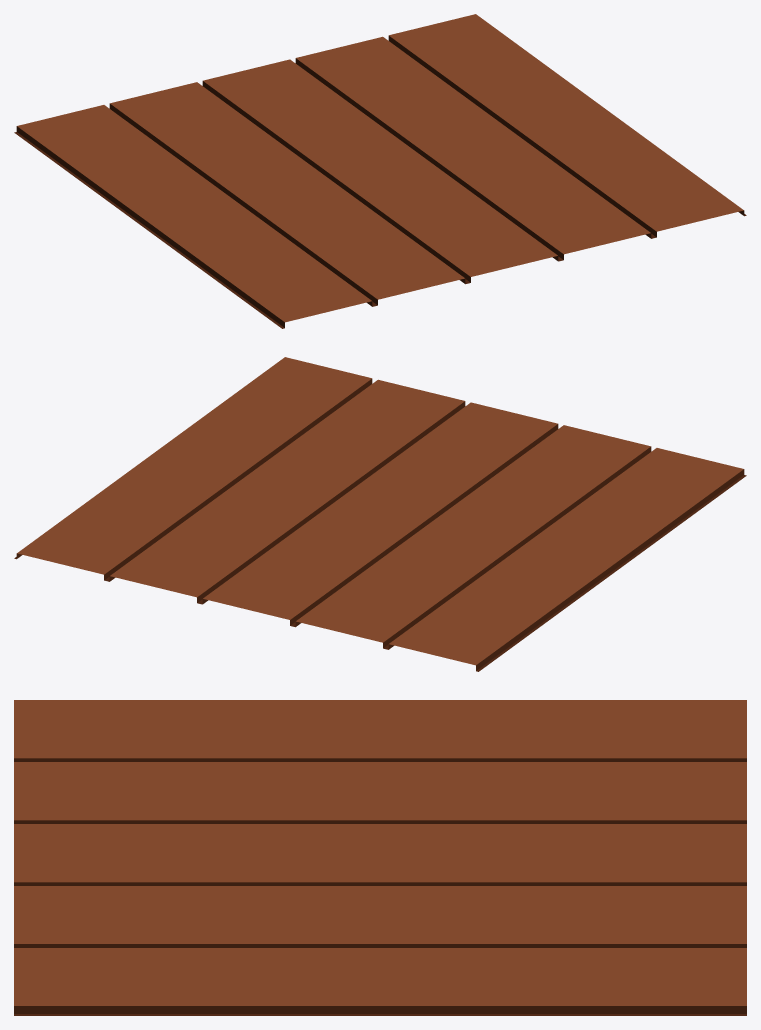
The model's file is Floor.fbx.
The picture shows the model from 3 angles, top to bottom: view 1: azimuth 30°, elevation 25°; view 2: azimuth 150°, elevation 25°; view 3: azimuth 270°, elevation 25°; orthographic projection. The views are drawn at different scales.
Parts seen in each view (by area): view 1: Floor_hi; view 2: Floor_hi; view 3: Floor_hi.
Boxes of the visible parts, x1,y1,x2,y2 form: Floor_hi: [14, 14, 746, 328]; Floor_hi: [14, 357, 746, 671]; Floor_hi: [14, 700, 746, 1015].
Bounding box in the file's own units: 0.5 × 0.006 × 0.5.
